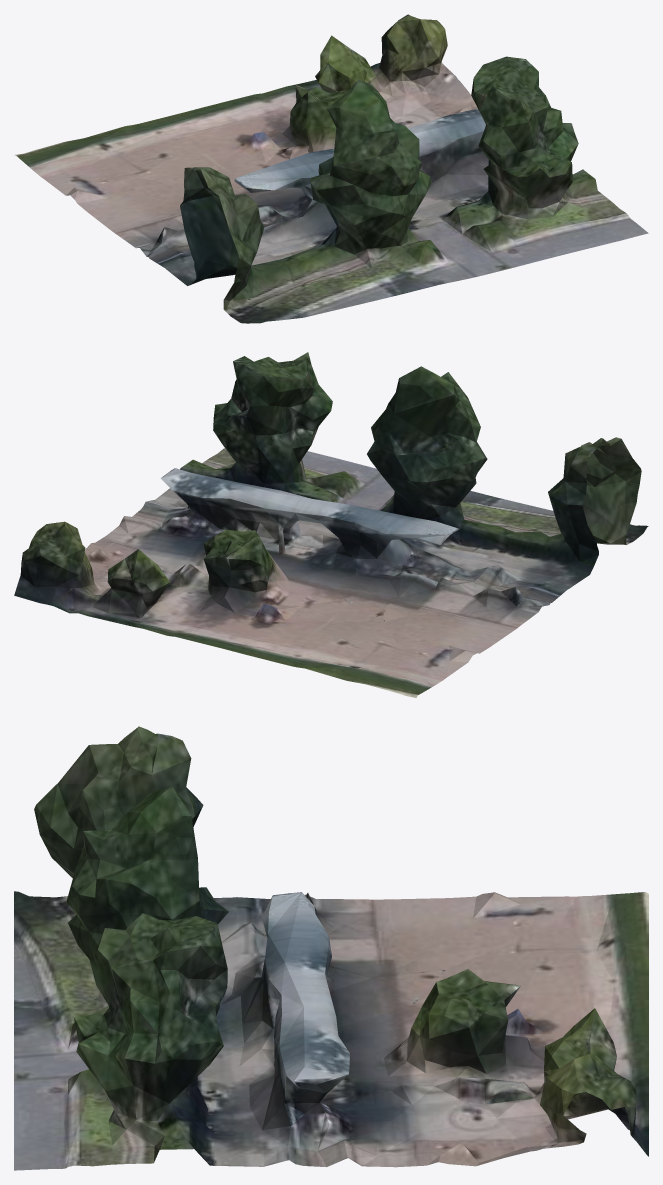
File: helsinki-6-4.glb
The picture shows the model from 3 angles, top to bottom: view 1: azimuth 30°, elevation 25°; view 2: azimuth 150°, elevation 25°; view 3: azimuth 270°, elevation 25°; orthographic projection. The views are drawn at different scales.
Size of the model in its own units: 31.75 by 12.8 by 31.75.
Materials: 1 (1 with a texture image).
